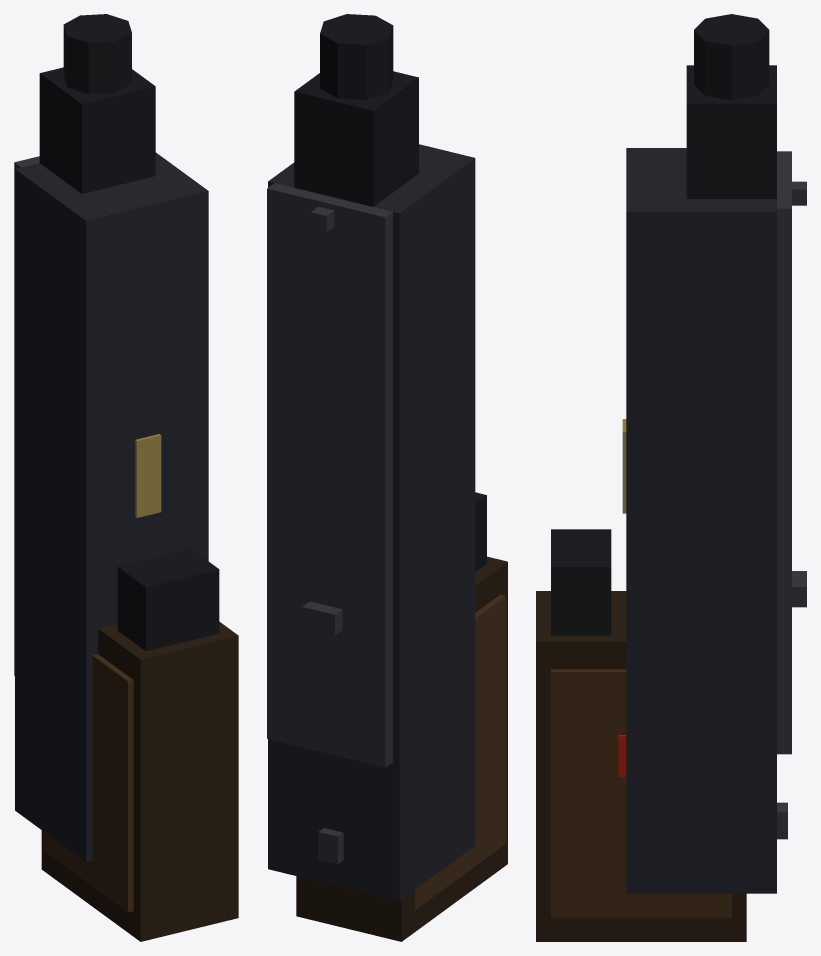
The model's file is gun_soviet_officer.glb.
3 renders of one model, left to right at view 1: azimuth 30°, elevation 25°; view 2: azimuth 150°, elevation 25°; view 3: azimuth 270°, elevation 25°, orthographic. The views are drawn at different scales.
Parts seen in each view (by area): view 1: gun_soviet_officer; view 2: gun_soviet_officer; view 3: gun_soviet_officer.
Part boxes in pixels (x1,y1,x2,y2): gun_soviet_officer: (14,14,238,941); gun_soviet_officer: (267,14,507,941); gun_soviet_officer: (536,14,806,941).
Size of the model in its own units: 0.1 by 0.65 by 0.18.
